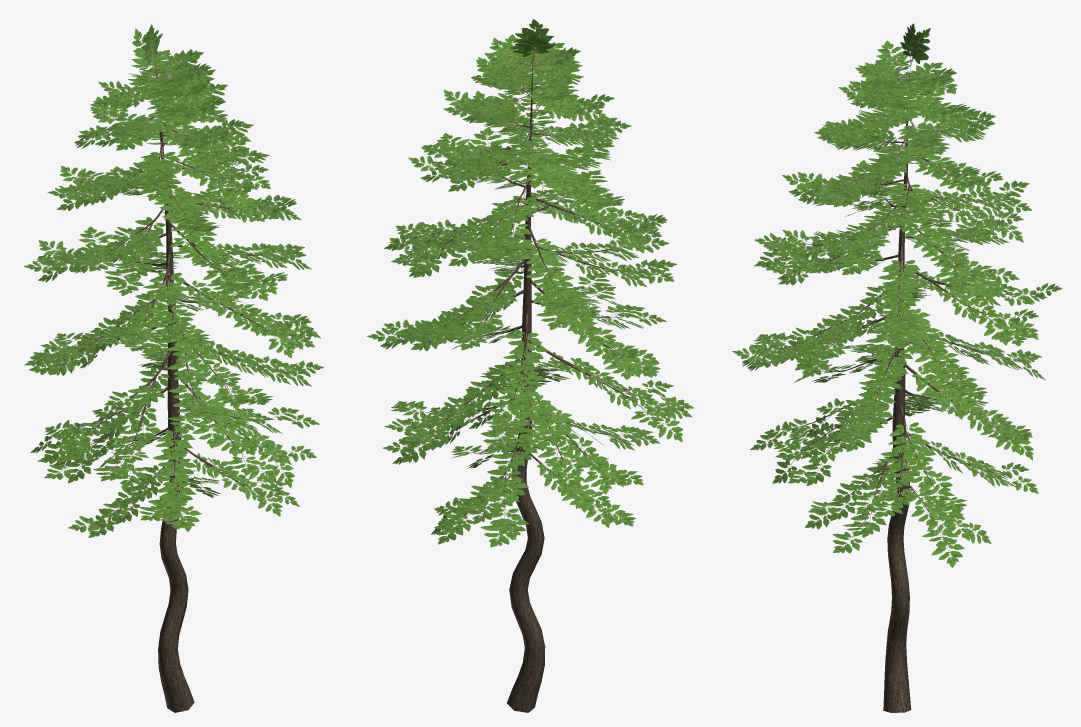
The model's file is tree.glb.
The picture shows the model from 3 angles, left to right: view 1: azimuth 30°, elevation 25°; view 2: azimuth 150°, elevation 25°; view 3: azimuth 270°, elevation 25°; orthographic projection. The views are drawn at different scales.
Visible parts, largest first — view 1: leaves, tree; view 2: leaves, tree; view 3: leaves, tree.
Boxes of the visible parts, x1=… form: leaves: x1=23, y1=24, x2=323, y2=537; tree: x1=64, y1=60, x2=281, y2=712; leaves: x1=367, y1=19, x2=694, y2=547; tree: x1=422, y1=59, x2=646, y2=712; leaves: x1=732, y1=23, x2=1062, y2=567; tree: x1=774, y1=60, x2=1024, y2=712.
Size of the model in its own units: 5.88 by 13.21 by 5.92.
Materials: 2 (2 with a texture image).
